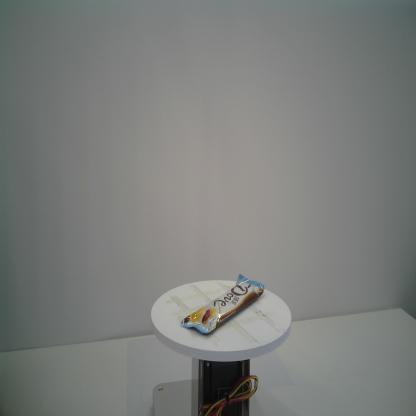Chocolate: (179, 272, 266, 334)
